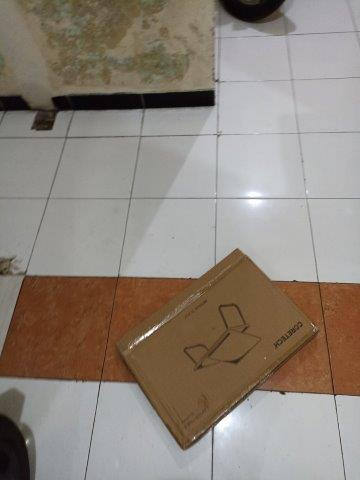kardus: (117, 250, 316, 449)
